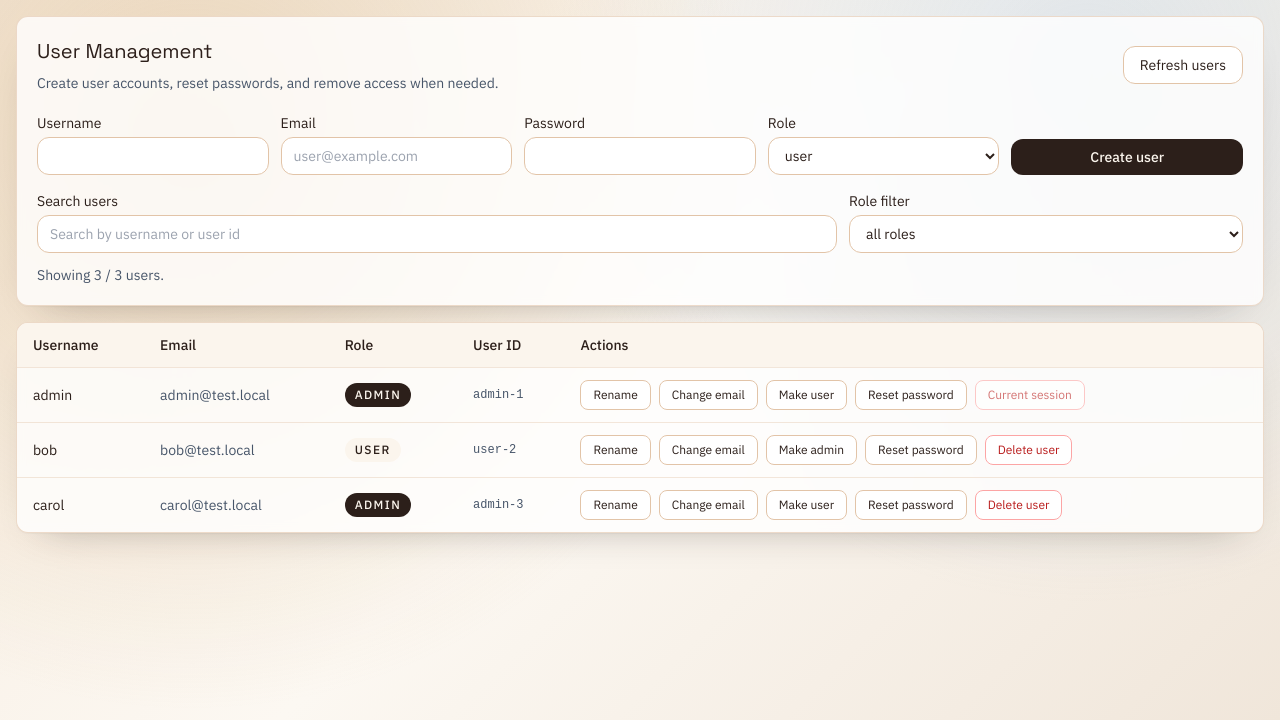
Test: AdminUsersView › filters users by role
This screenshot has width=1280, height=720.
Select "admin" in the dropdown showing "all roles" at (1046, 234), box [849,215,1243,253]
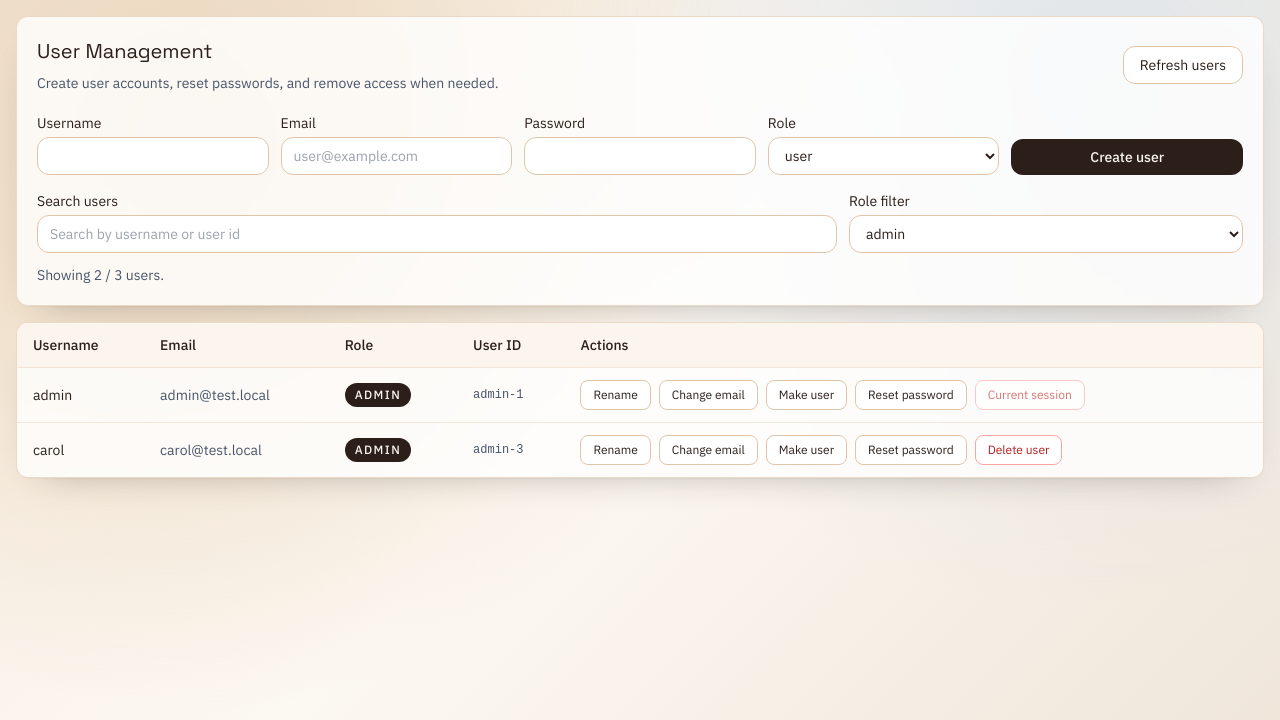
Expected: the text "Showing 2 / 3 users." is shown, [37,266,164,284]
